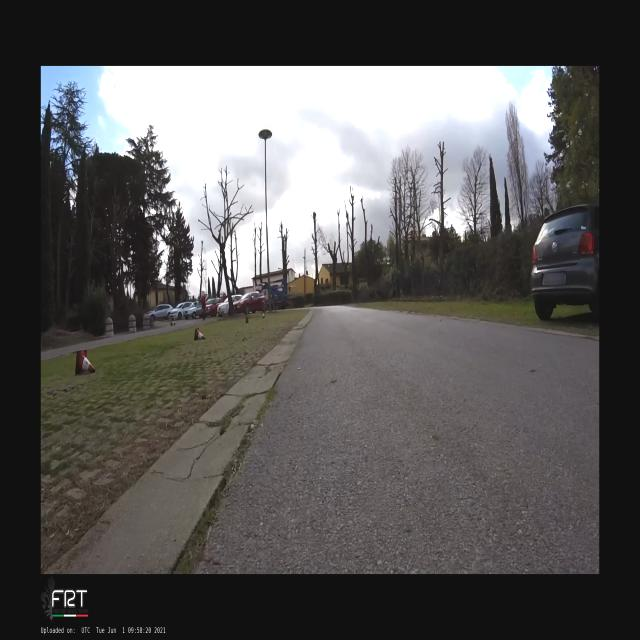orange_cone: (75, 350, 95, 374), (194, 328, 206, 341), (262, 312, 265, 318)
unknown_cone: (245, 314, 249, 324)
